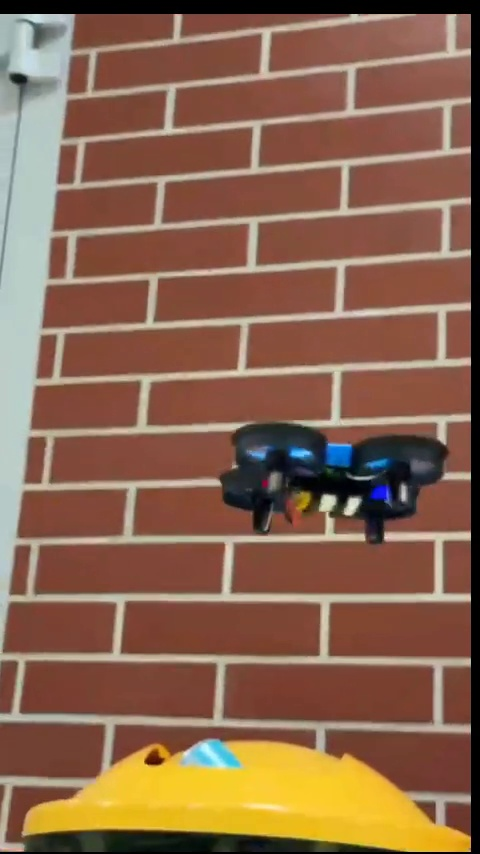drone: (221, 422, 452, 549)
